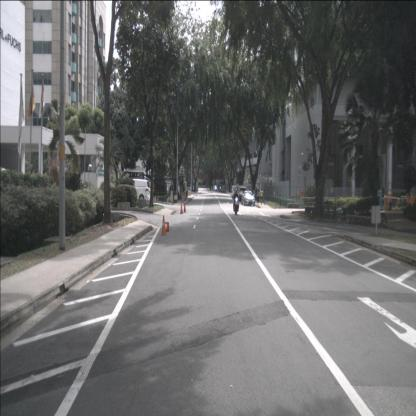human-pedestrian-adult: (263, 188, 267, 205), (260, 188, 263, 205), (257, 189, 260, 205), (255, 187, 258, 198)
movable_object-trafficcone: (160, 215, 166, 235), (165, 222, 169, 231), (180, 203, 183, 214), (184, 203, 186, 213)
vehicle-car: (122, 178, 152, 206), (118, 170, 145, 192), (241, 189, 256, 207), (237, 186, 247, 201)
vehicle-motorcycle: (232, 188, 240, 216)
